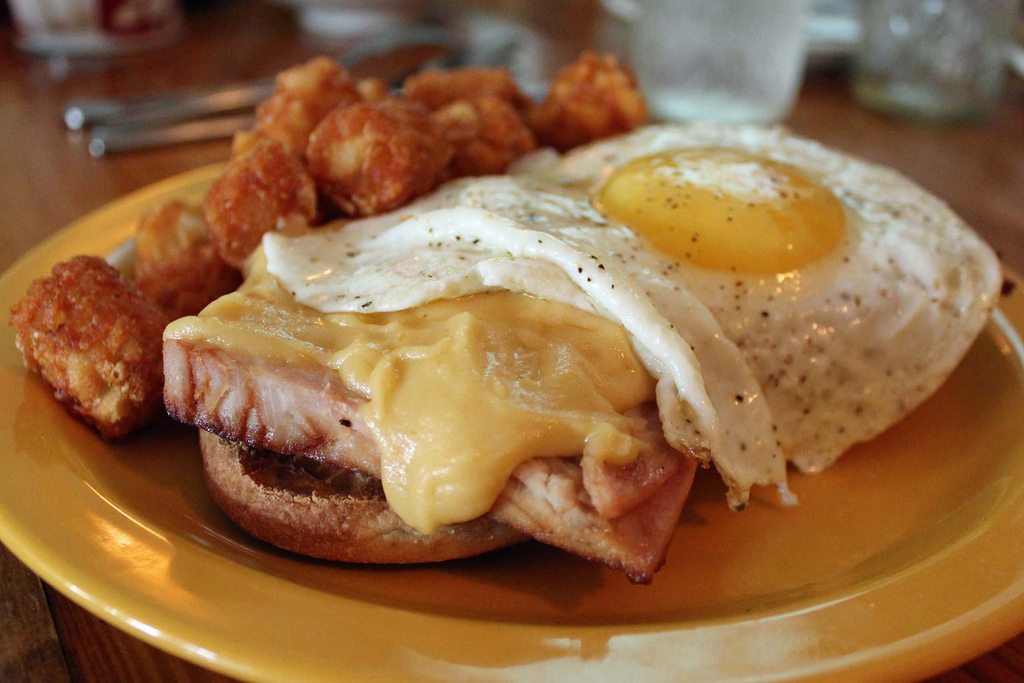fried egg: (353, 138, 957, 310)
meatballs: (12, 262, 156, 426), (302, 100, 431, 223), (204, 138, 307, 259)
